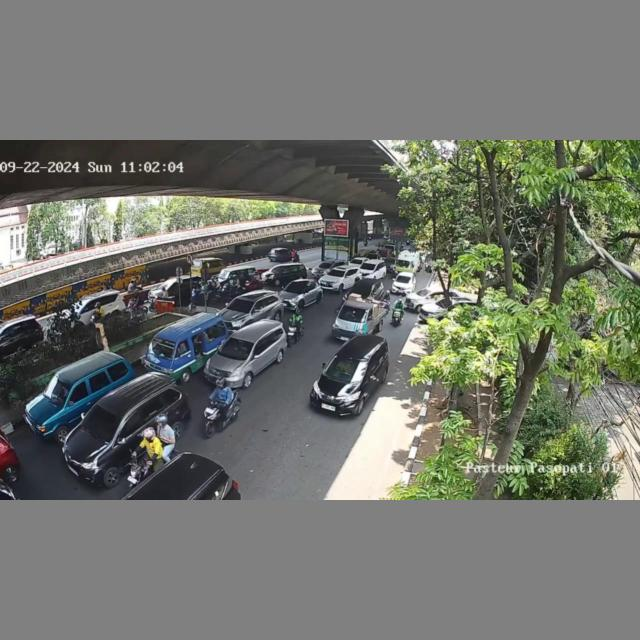windshield: (82, 406, 121, 439), (324, 353, 365, 378), (43, 375, 73, 404), (218, 337, 253, 359), (149, 337, 174, 358), (339, 305, 367, 321), (227, 300, 254, 313), (285, 282, 306, 292), (327, 269, 345, 277)
